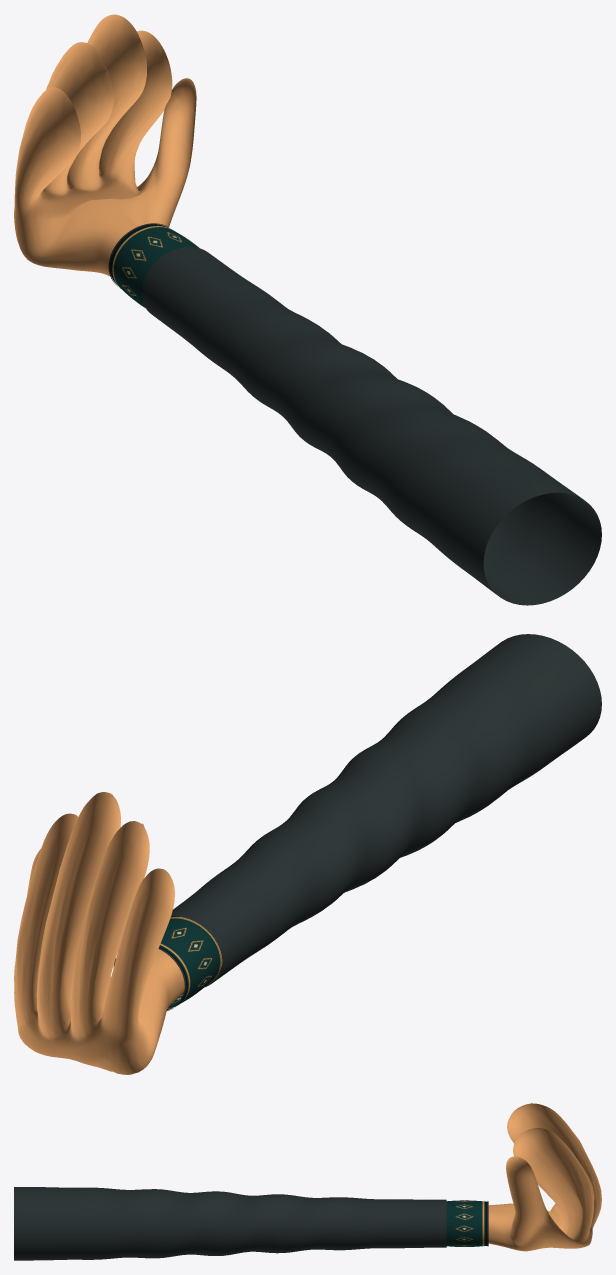
File: mansaf-player-arm-v4.glb
3 views of the same model, one above another, from view 1: azimuth 30°, elevation 25°; view 2: azimuth 150°, elevation 25°; view 3: azimuth 270°, elevation 25° (orthographic). The views are drawn at different scales.
Parts seen in each view (by area): view 1: Sleeve, HandSkin, EmbroideredCuff; view 2: Sleeve, HandSkin, EmbroideredCuff; view 3: Sleeve, HandSkin, EmbroideredCuff.
Part boxes in pixels (x1=…): Sleeve: x1=141, y1=247, x2=601, y2=605; HandSkin: x1=14, y1=14, x2=196, y2=276; EmbroideredCuff: x1=110, y1=224, x2=198, y2=307; Sleeve: x1=171, y1=634, x2=601, y2=986; HandSkin: x1=14, y1=792, x2=184, y2=1074; EmbroideredCuff: x1=159, y1=916, x2=222, y2=1010; Sleeve: x1=14, y1=1187, x2=446, y2=1260; HandSkin: x1=488, y1=1103, x2=601, y2=1251; EmbroideredCuff: x1=446, y1=1200, x2=487, y2=1246.
Bounding box in the file's own units: 0.4184 × 0.7311 × 2.48.
Materials: 4 (1 with a texture image).
